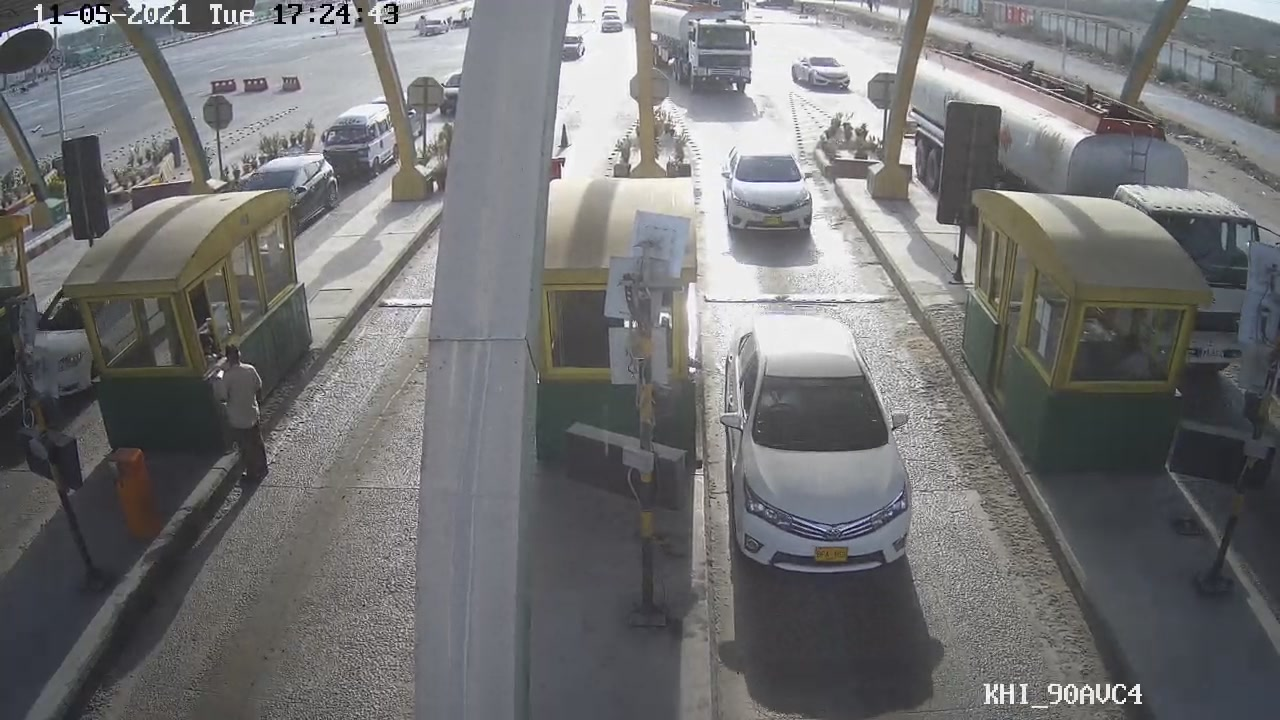F1: (713, 318, 943, 581), (707, 137, 833, 244)
